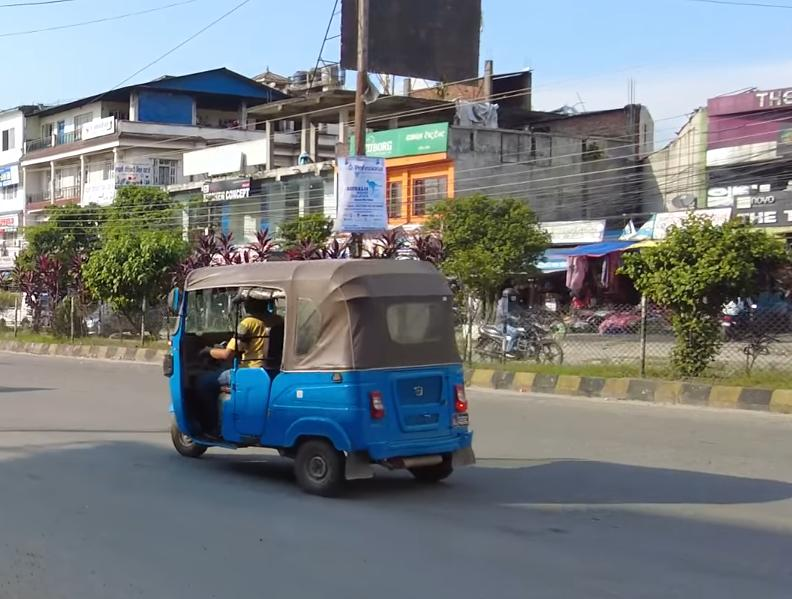auto_rickshaw: (161, 254, 482, 495)
